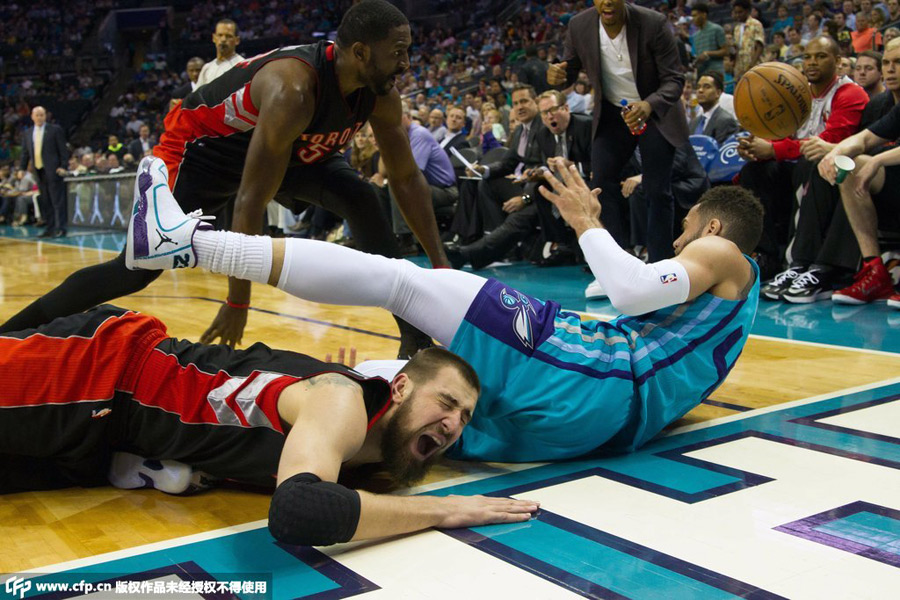10+: (3, 1, 900, 334)
down: (107, 176, 776, 508), (1, 294, 558, 543)
